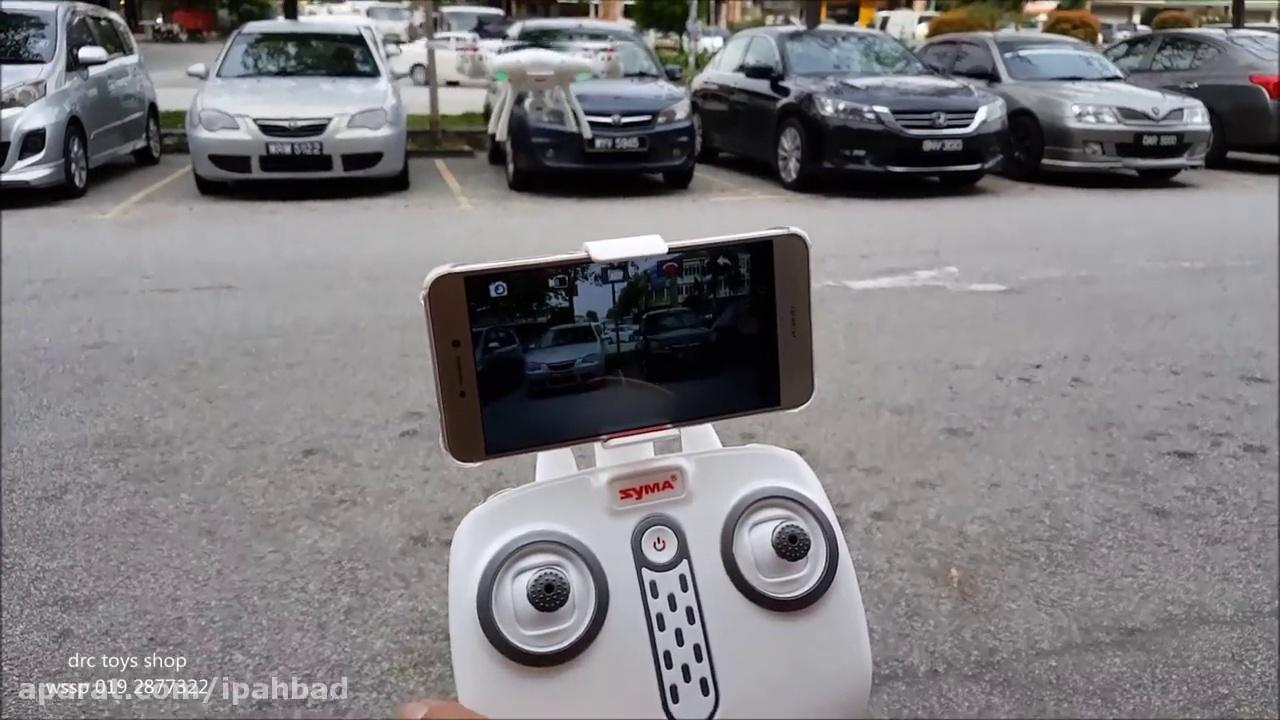drone: (450, 26, 624, 143)
